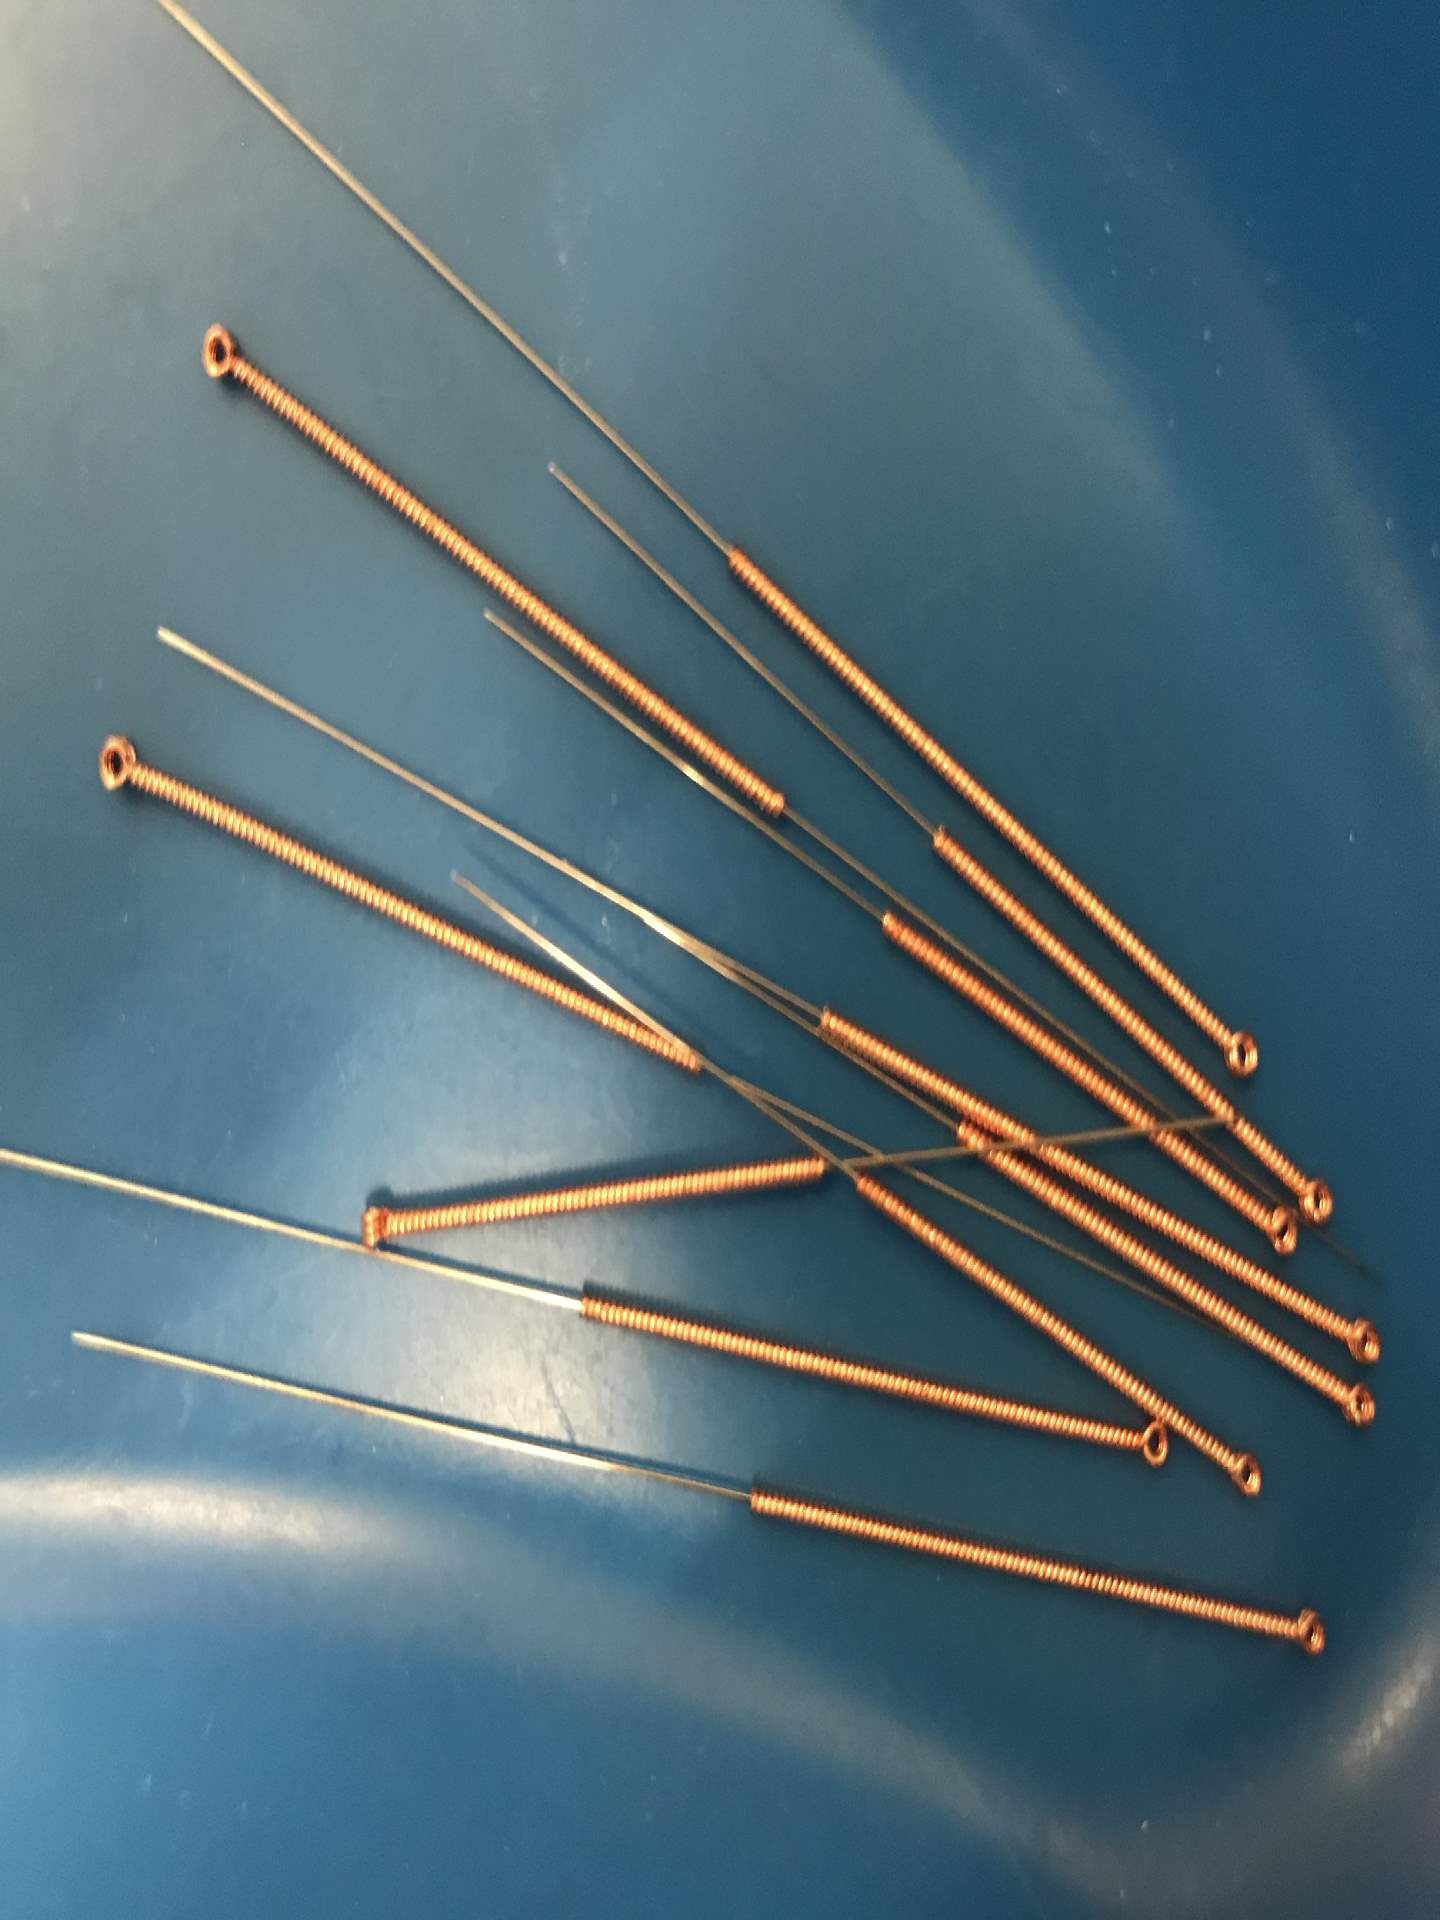needle: (175, 302, 266, 399), (71, 720, 163, 807), (339, 1178, 419, 1265), (1271, 1589, 1339, 1674), (1330, 1297, 1396, 1380), (1209, 1438, 1280, 1513), (1316, 1367, 1386, 1444), (1201, 1013, 1272, 1087), (1234, 1203, 1308, 1264), (1107, 1412, 1175, 1476), (1292, 1157, 1345, 1237)
